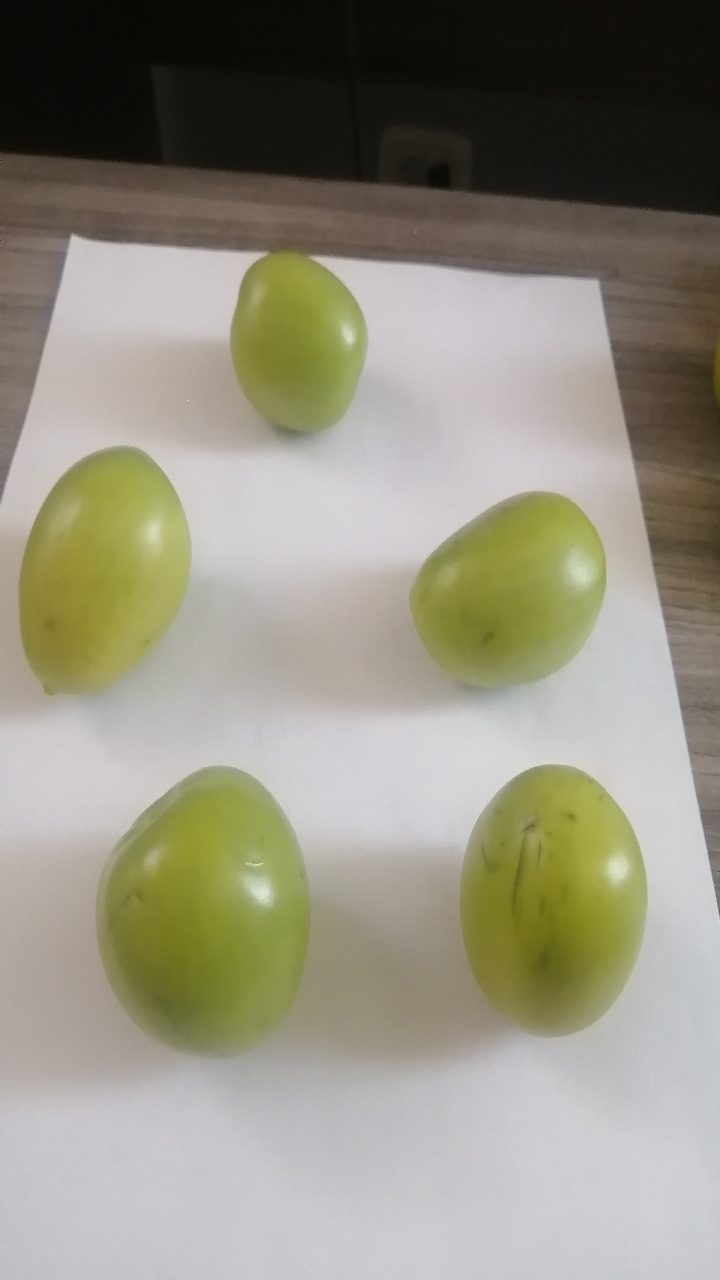tomateVerde: (80, 752, 332, 1068), (434, 748, 678, 1049), (381, 462, 644, 725), (4, 426, 214, 720), (204, 222, 389, 449)
